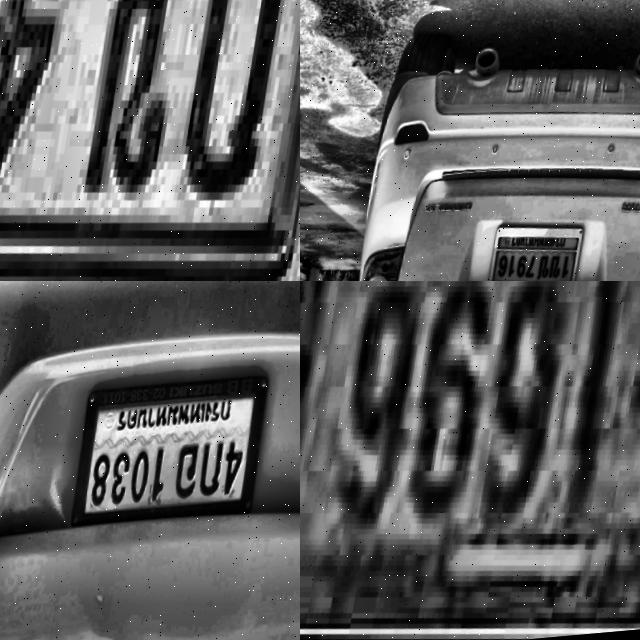license-plate: (300, 281, 640, 640), (0, 0, 300, 281), (68, 363, 281, 553), (491, 222, 588, 281)
